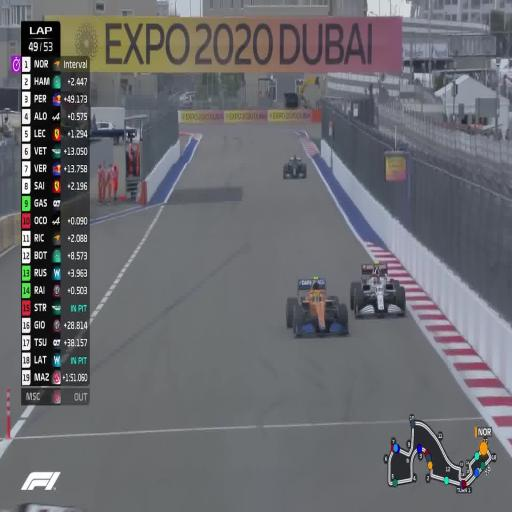f1_car: (286, 277, 349, 337), (350, 261, 406, 317), (283, 155, 306, 178)
